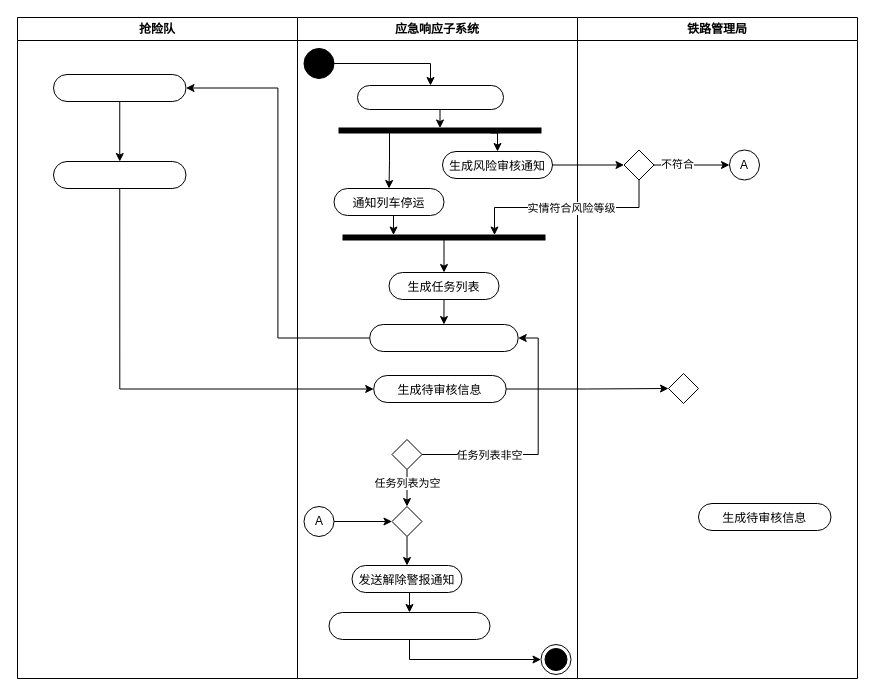
The diagram is 875 pixels wide and 696 high, and some of its shapes have lost their labels. The centre of each missing label's shape, as x and y in pixels:
"向对应抢险队发送任务" belongs at point 443,338.
"录入相关信息至数据库" belongs at point 409,626.
"报告抢险任务完成" belongs at point 119,174.
"接收抢险任务" belongs at point 119,88.
"自动启动应急响应" belongs at point 430,97.
